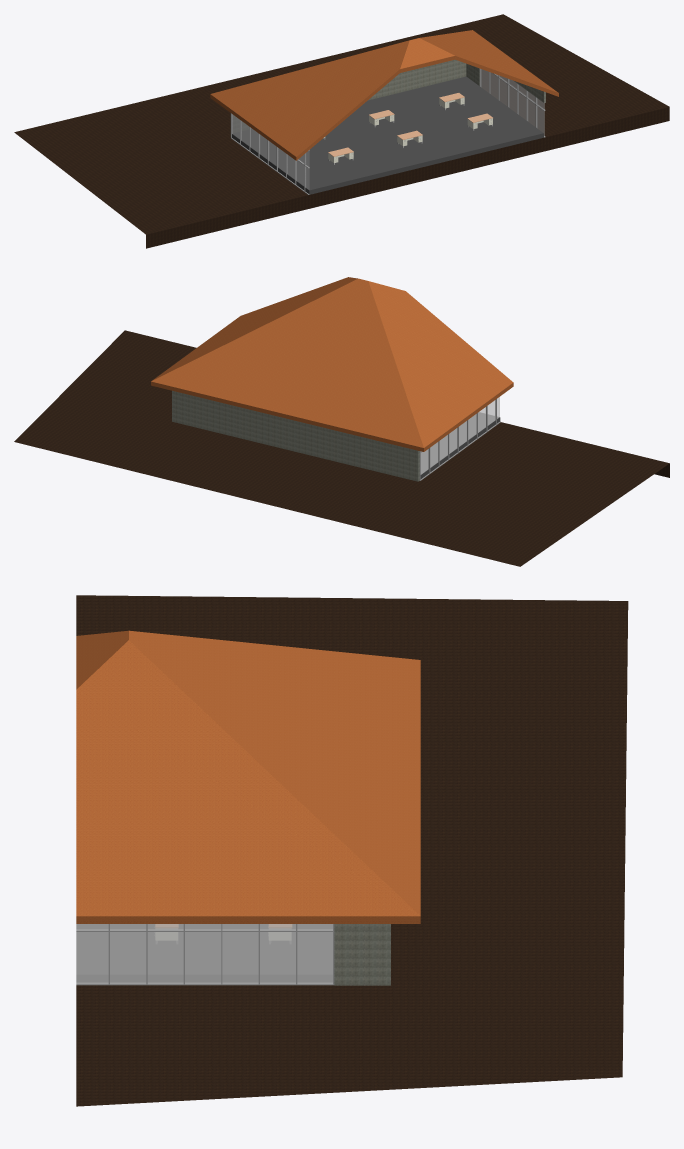
The model's file is IFCJS.dae.
3 renders of one model, top to bottom at view 1: azimuth 30°, elevation 25°; view 2: azimuth 150°, elevation 25°; view 3: azimuth 270°, elevation 25°, orthographic. The views are drawn at different scales.
Visible parts, largest first — view 1: geometry-lumionModel (×8); view 2: geometry-lumionModel (×6); view 3: geometry-lumionModel (×6).
Part boxes in pixels (x1,y1,x2,y2): geometry-lumionModel (×8): (14, 14, 669, 248); geometry-lumionModel (×6): (14, 277, 669, 566); geometry-lumionModel (×6): (76, 595, 628, 1106).
Size of the model in its own units: 48.91 by 23.14 by 11.72.
Materials: 10 (4 with a texture image).
